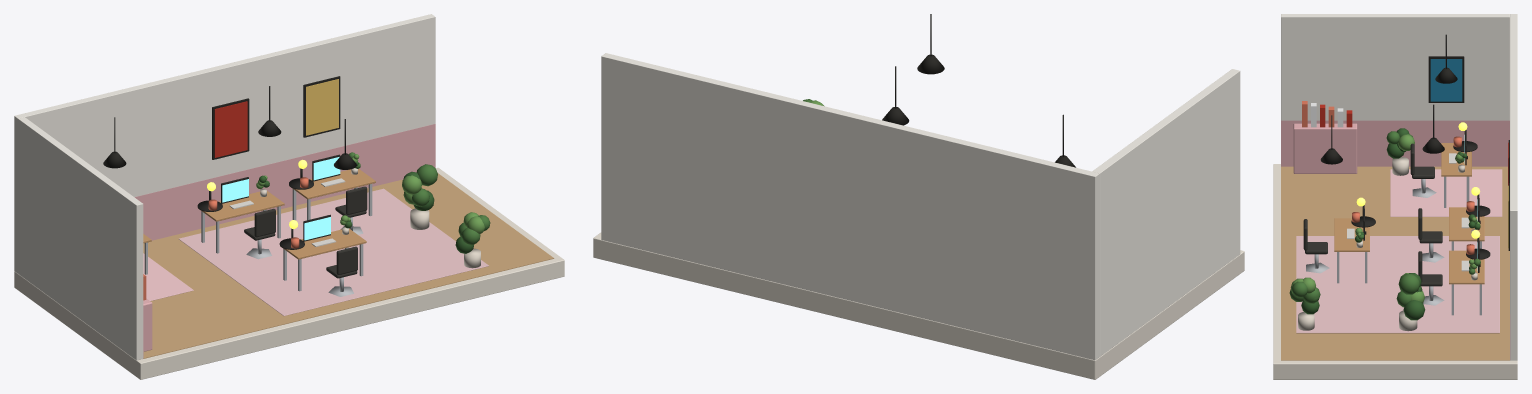
3 views of the same model, side by side, from view 1: azimuth 30°, elevation 25°; view 2: azimuth 150°, elevation 25°; view 3: azimuth 270°, elevation 25° (orthographic). The views are drawn at different scales.
Visible parts, largest first — view 1: LM_P4, Cube.023, Cube.045; view 2: LM_P4; view 3: LM_P4.
Part boxes in pixels (x1,y1,x2,y2): LM_P4: [14, 14, 564, 379]; Cube.023: [222, 179, 248, 202]; Cube.045: [304, 217, 330, 240]; LM_P4: [593, 14, 1244, 379]; LM_P4: [1273, 14, 1517, 379].
Bounding box in the file's own units: 9.3 × 3.8 × 4.8.
